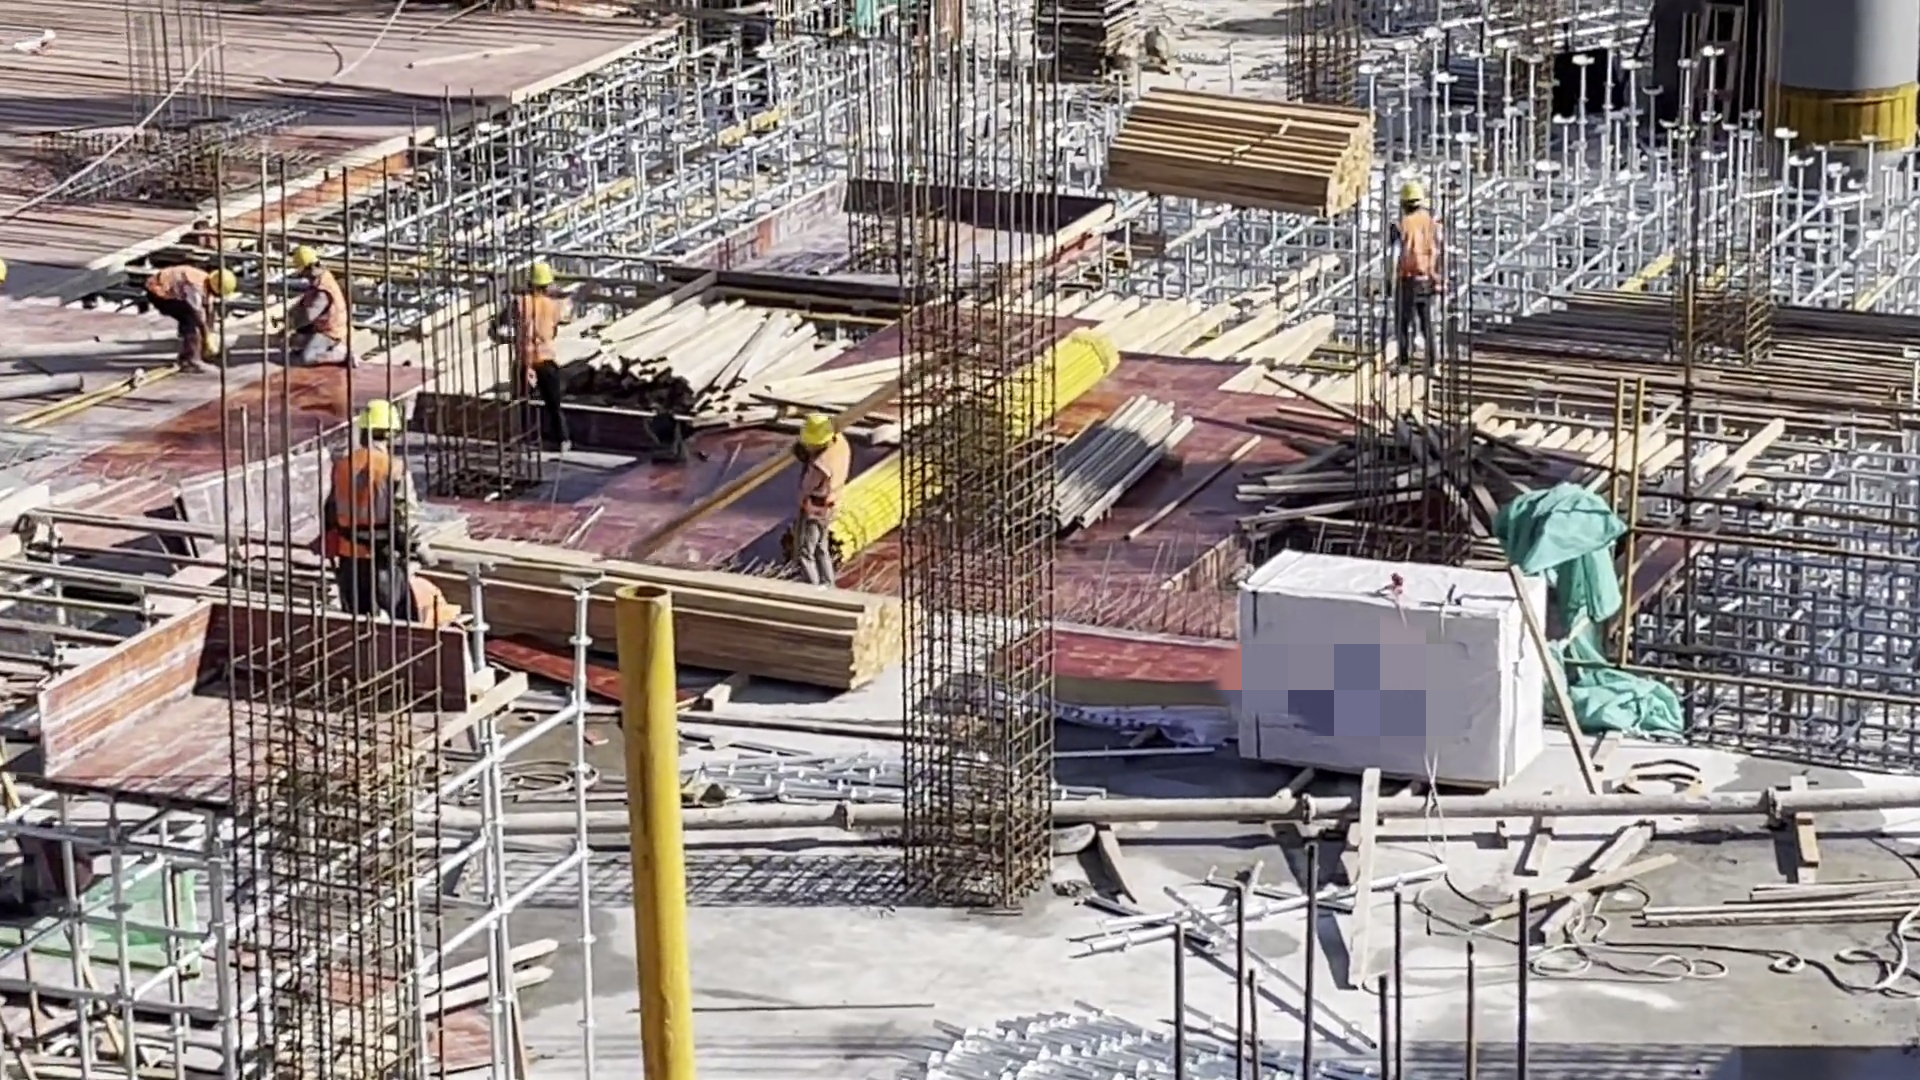helmet: (342, 388, 410, 448), (512, 255, 568, 294), (1395, 172, 1442, 209), (800, 409, 838, 448), (281, 235, 315, 271), (209, 261, 236, 303)
person: (319, 402, 455, 639), (491, 256, 571, 429), (784, 399, 854, 597), (1395, 182, 1456, 362), (272, 238, 352, 368), (133, 255, 234, 349)
vest: (329, 457, 410, 552), (508, 292, 560, 370), (300, 276, 347, 333), (804, 449, 843, 512), (138, 262, 211, 295), (1397, 209, 1434, 272)
